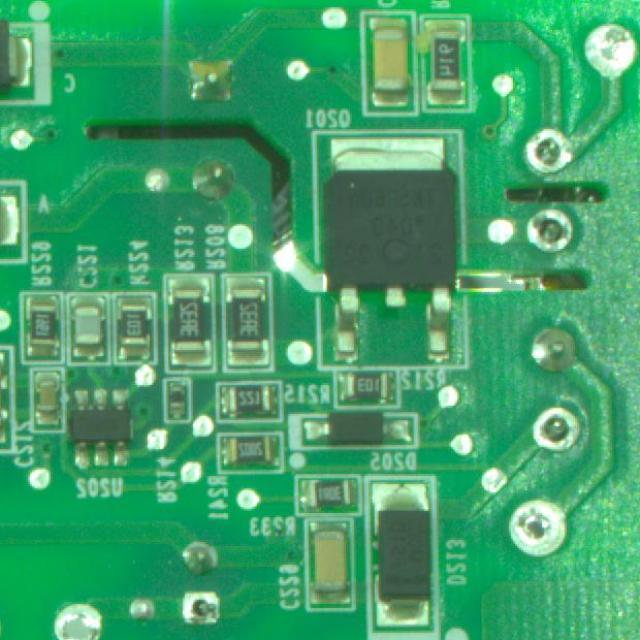Insufficient solder: (505, 492, 575, 567), (581, 18, 640, 84), (519, 120, 576, 180), (528, 404, 582, 457), (522, 205, 575, 254), (181, 582, 222, 635)
